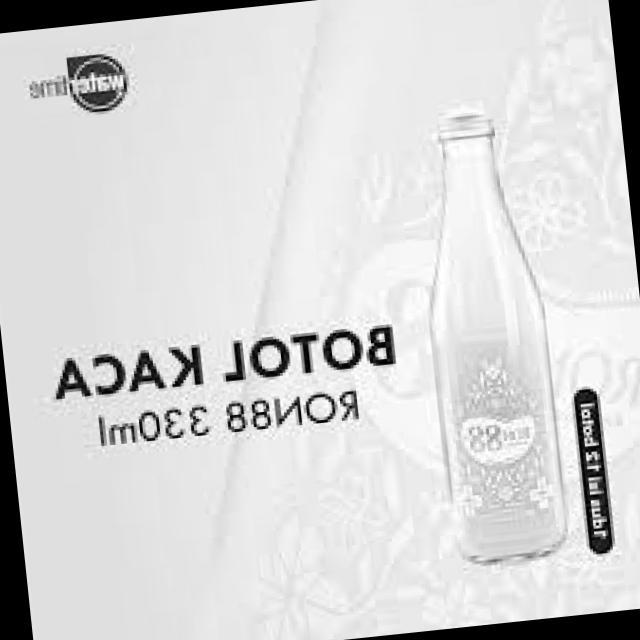good: (400, 97, 564, 570)
